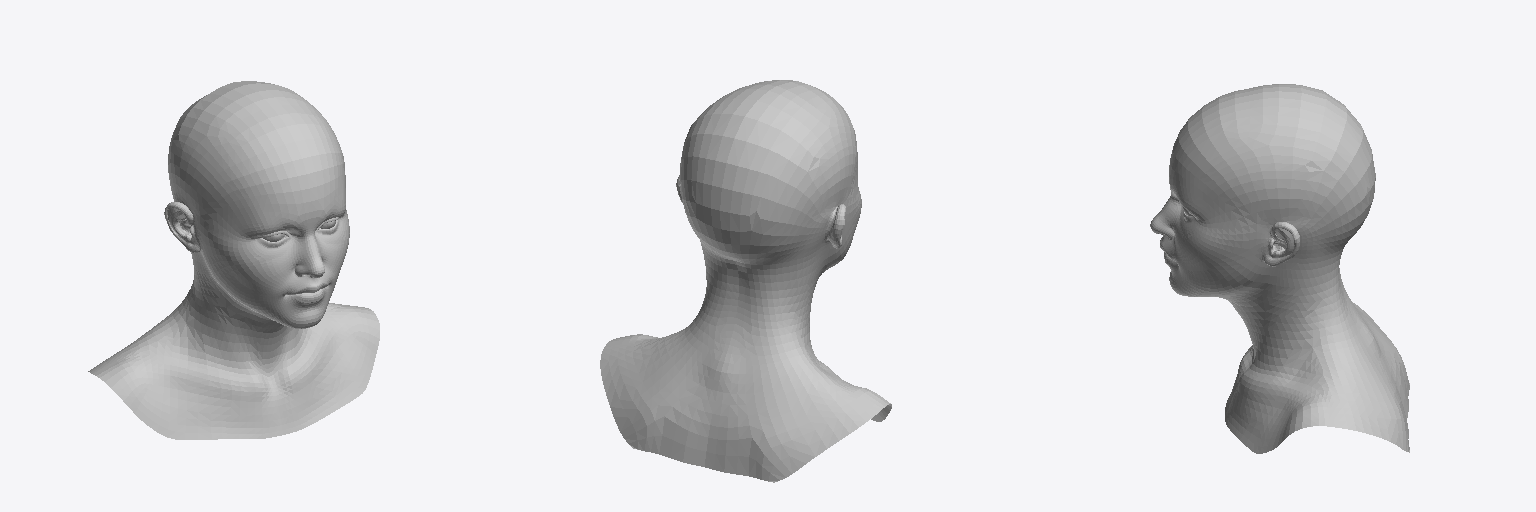
The model's file is FemaleHeadToScale.obj.
3 views of the same model, side by side, from view 1: azimuth 30°, elevation 25°; view 2: azimuth 150°, elevation 25°; view 3: azimuth 270°, elevation 25° (orthographic).
Parts seen in each view (by area): view 1: head____N; view 2: head____N; view 3: head____N.
Boxes of the visible parts, box(x1,y1,x2,y2) form: head____N: box(88, 81, 379, 439); head____N: box(600, 80, 891, 482); head____N: box(1150, 84, 1409, 453).
Size of the model in its own units: 312 by 357 by 255.